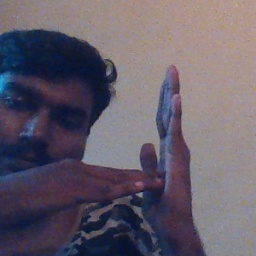Z: (73, 64, 205, 248)
